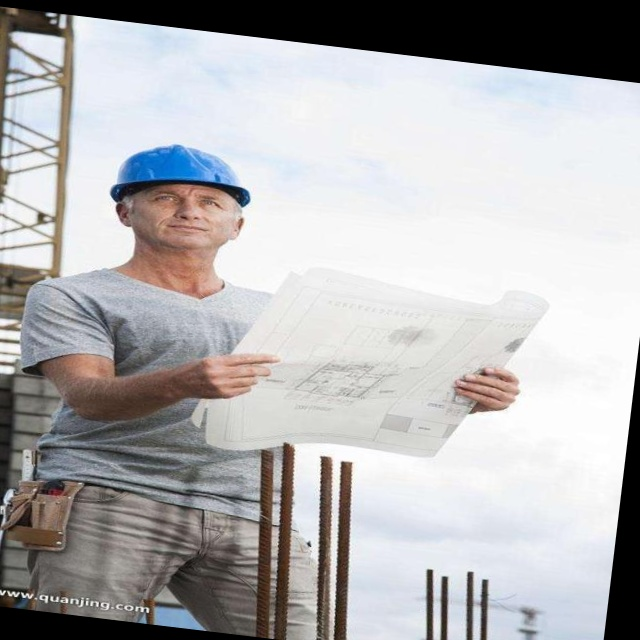Con_Casco: (103, 140, 256, 264)
